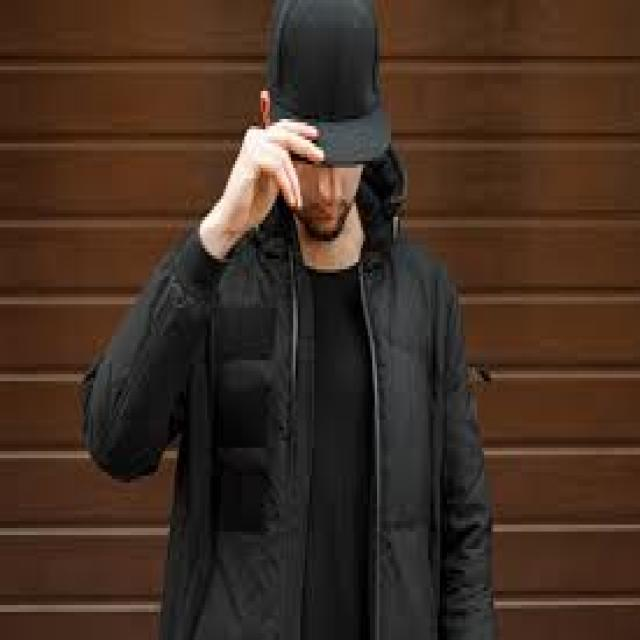cap: (254, 0, 393, 238)
